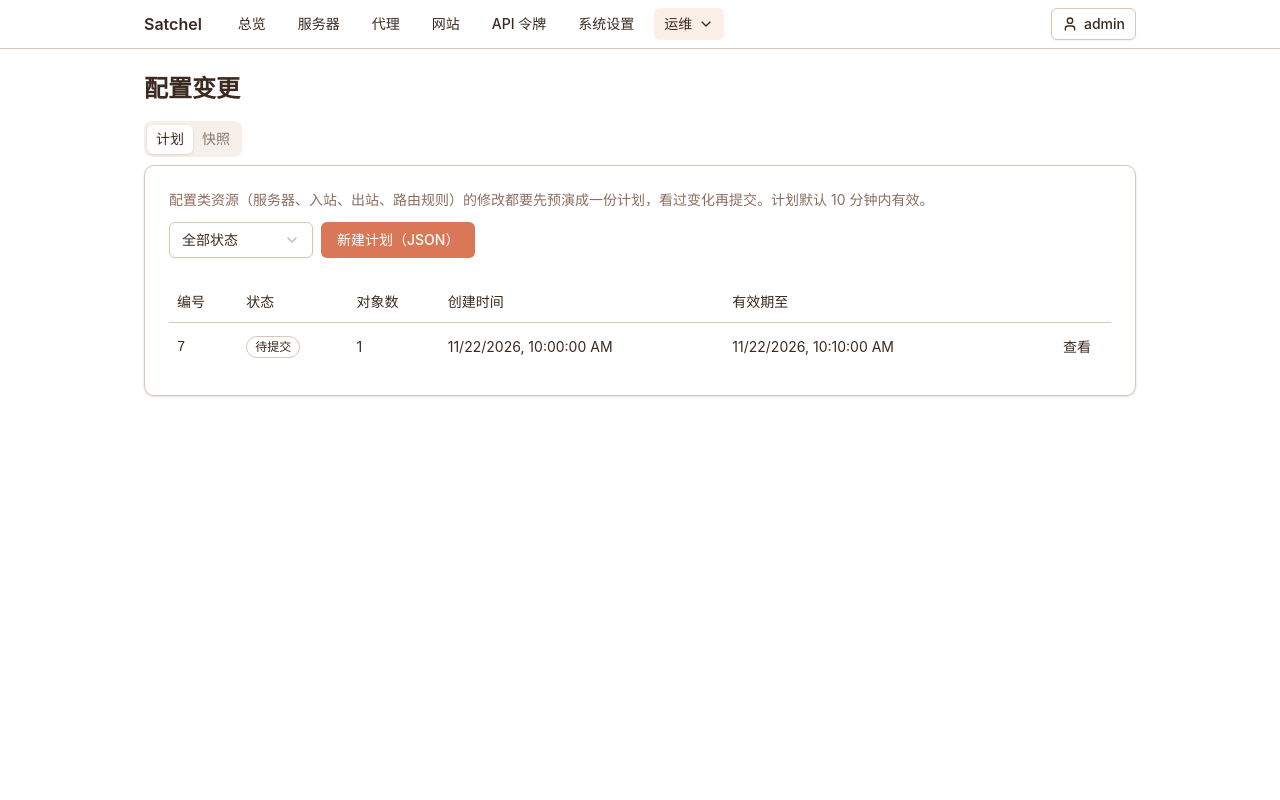
Test: 配置变更页 › 计划列表与详情：列出编号与状态；点开请求 plans get，显示对象并有提交
Expected: the text "待提交" is shown, [246,336,300,358]
Click the button "查看" at (1077, 346), box [1051,330,1103,362]
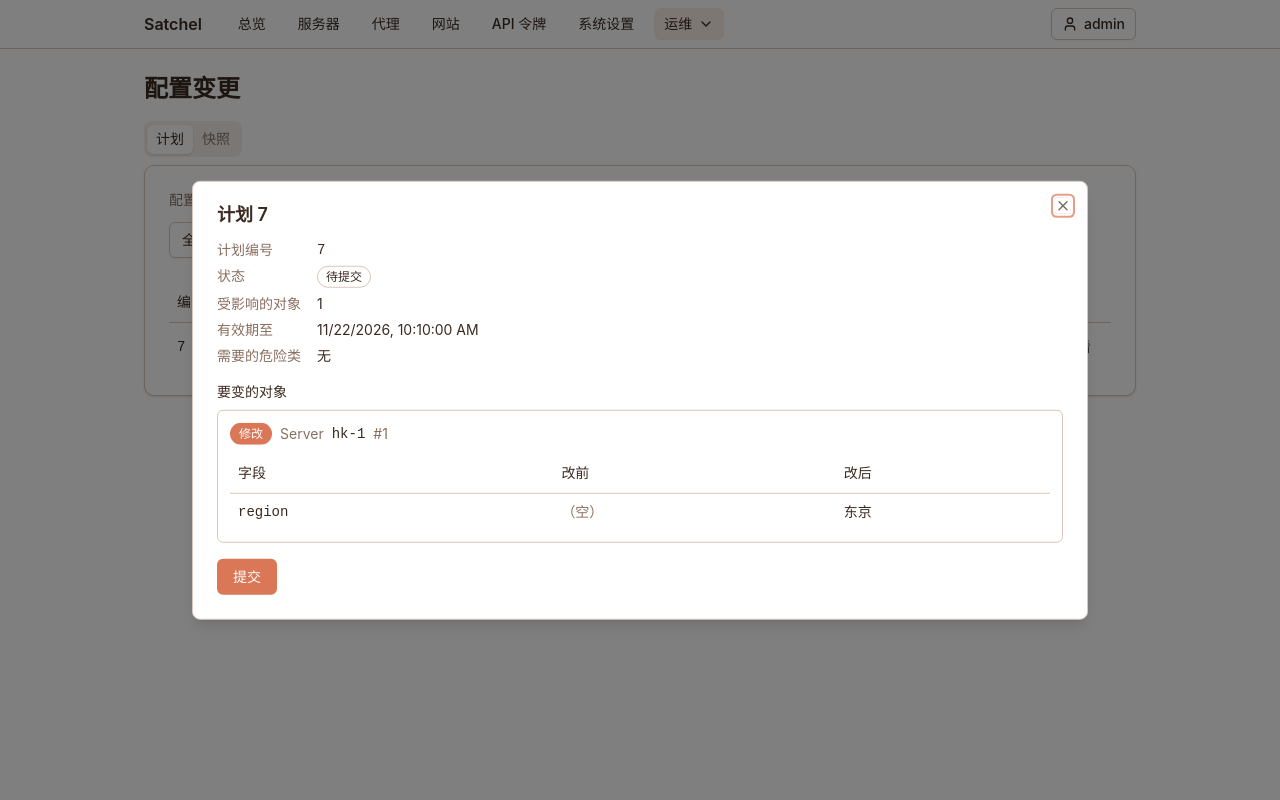
Expected: the row with test id "plan-field-region" is shown, [230,493,1050,529]
Expected: the button "提交" is shown, [217,558,277,594]
